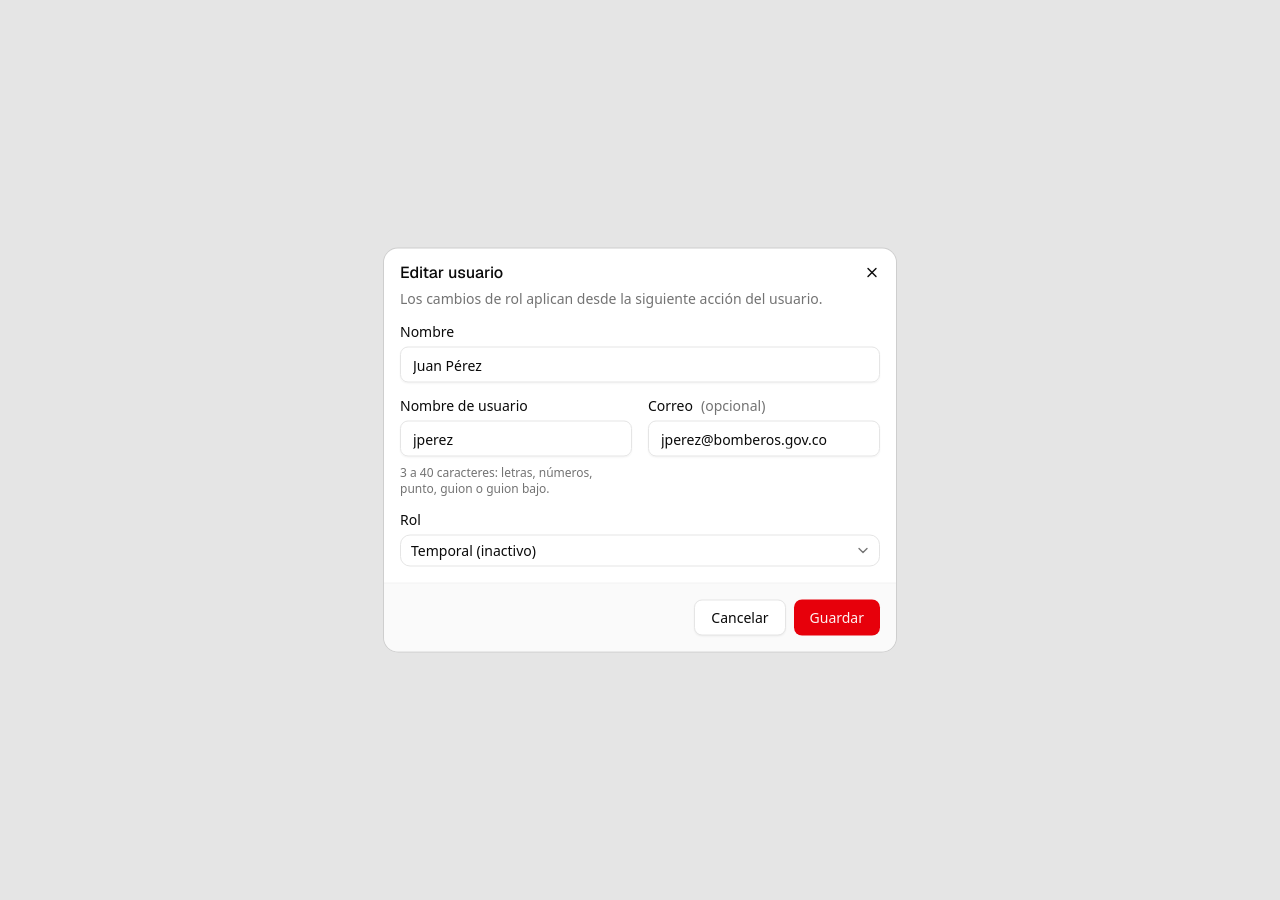
UserFormDialog (US2, FR-008, FR-009, RN-013) › al editar conserva el rol actual aunque esté inactivo, marcado (RN-017)
Click the dropdown named "Rol". click: (473, 550)
box: left=400, top=534, right=880, bottom=566
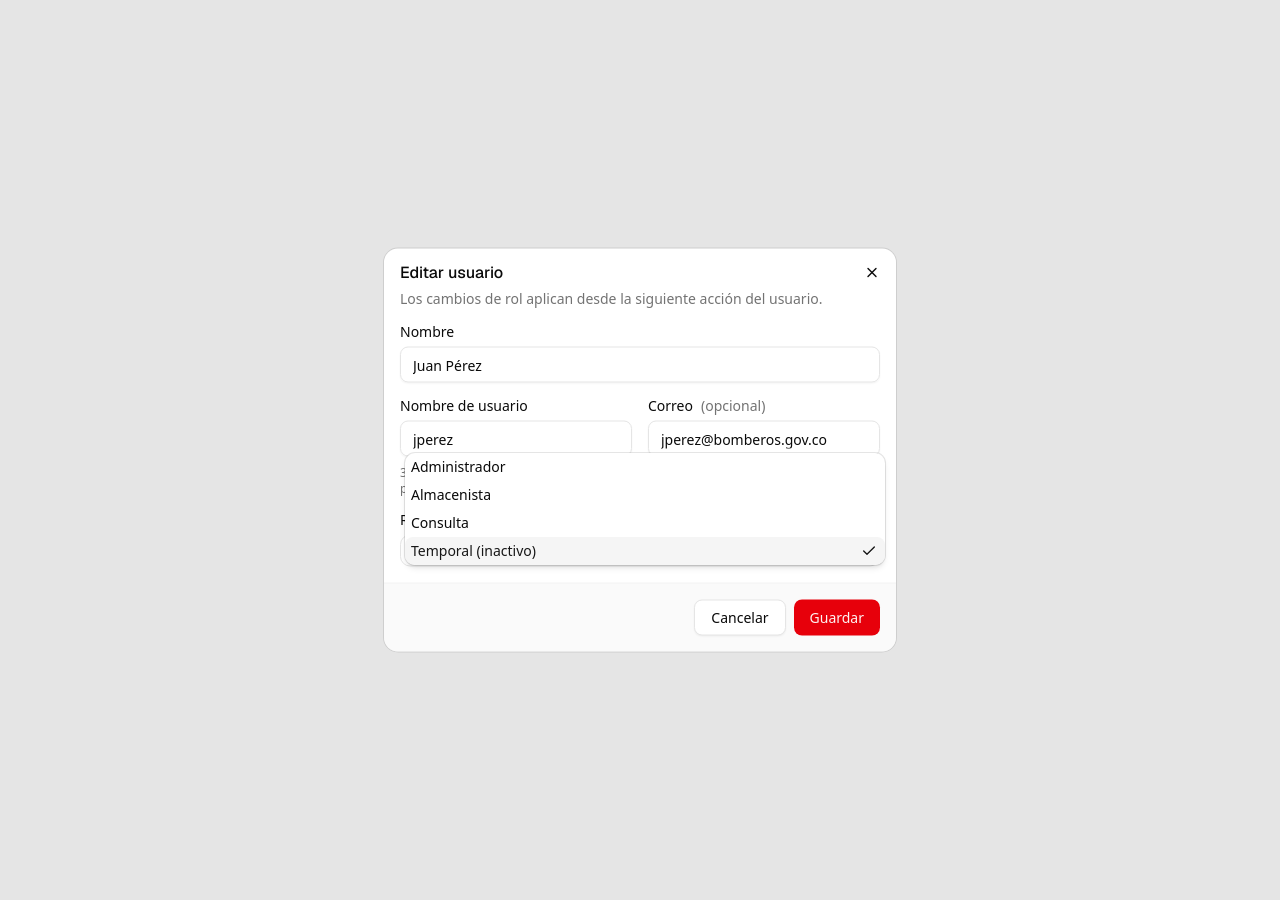
Check: the option "Temporal (inactivo)" is shown, box left=405, top=536, right=885, bottom=564
